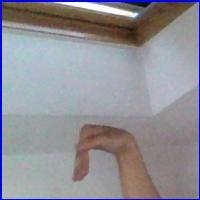del: (67, 123, 140, 188)
